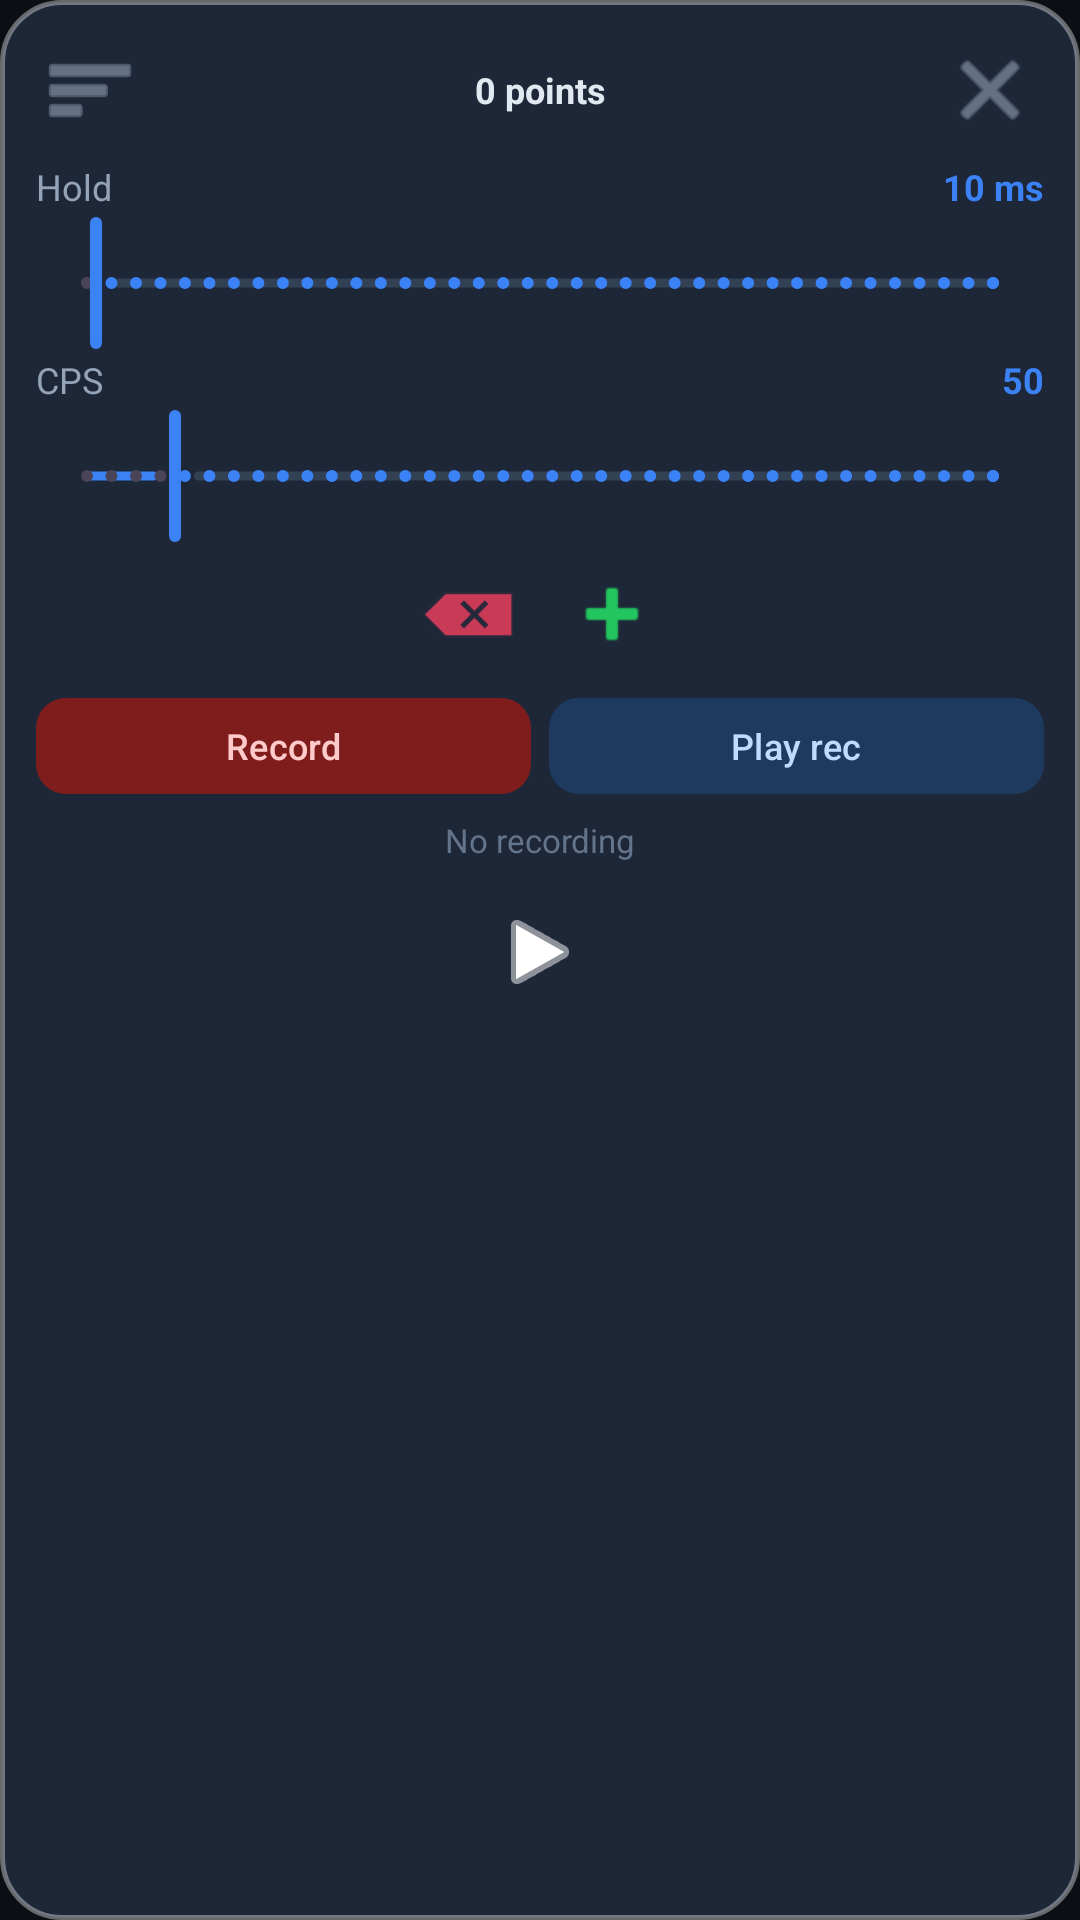

Point at icon controls on the screen. Image size 1080 x 1920, points as [x,y].
Add point: [612,614]
Close: [990,90]
Remove last point: [468,615]
Start or Stop: [540,952]
